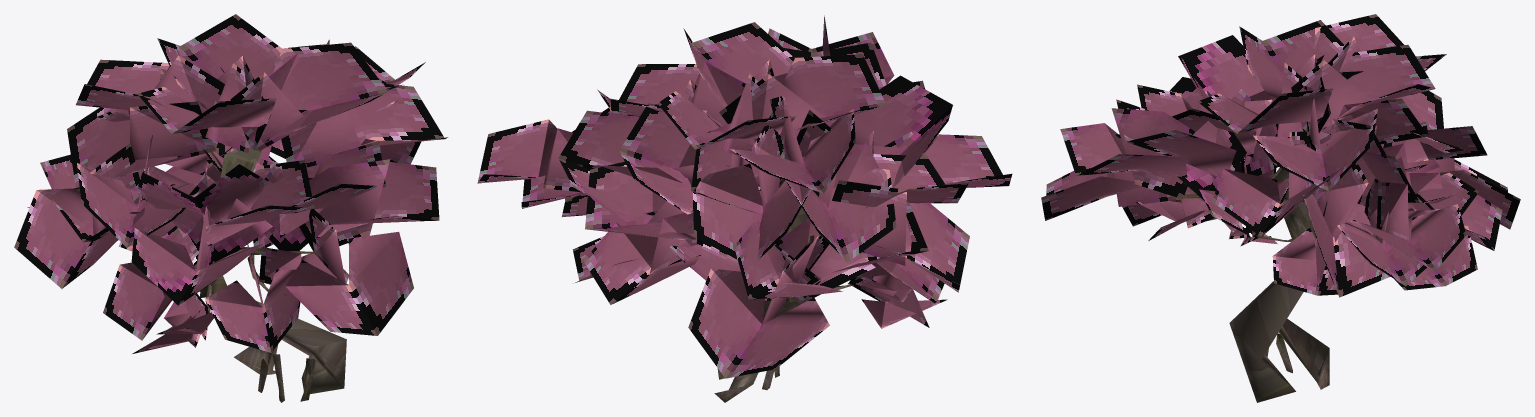
3 views of the same model, side by side, from view 1: azimuth 30°, elevation 25°; view 2: azimuth 150°, elevation 25°; view 3: azimuth 270°, elevation 25° (orthographic). The views are drawn at different scales.
Visible parts, largest first — view 1: DrawCall_1049; view 2: DrawCall_1049; view 3: DrawCall_1049.
Boxes of the visible parts, <box> form: DrawCall_1049: <box>14,14,448,402</box>; DrawCall_1049: <box>477,15,1012,402</box>; DrawCall_1049: <box>1041,14,1520,402</box>.
Bounding box in the file's own units: 16.67 × 12.18 × 16.44.
Materials: 1 (1 with a texture image).
